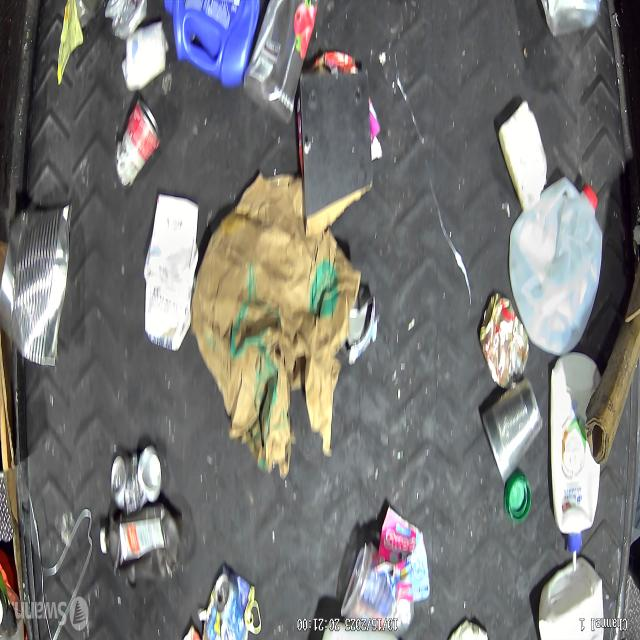can: (0, 203, 73, 368), (480, 378, 542, 482), (478, 291, 530, 388), (115, 97, 160, 189), (110, 444, 162, 516), (212, 567, 248, 640)
milk_jug: (507, 175, 604, 356), (537, 558, 604, 640)
non_white_jug: (242, 0, 319, 125), (164, 0, 260, 89), (100, 504, 180, 584)
